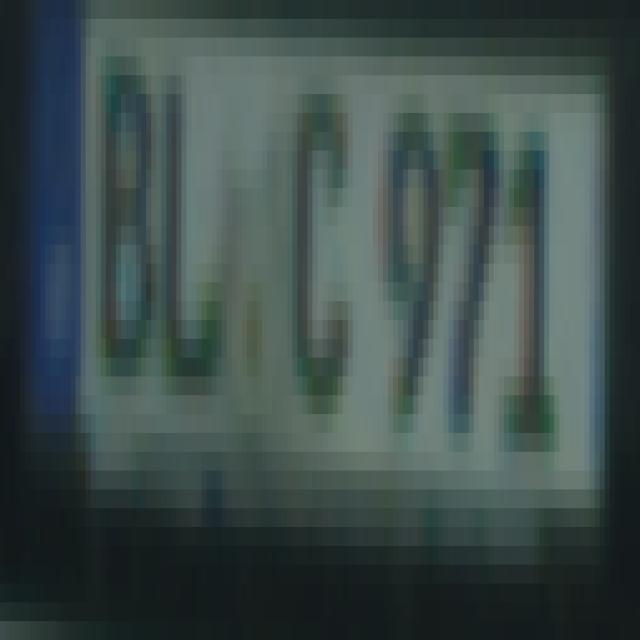Autre: (20, 0, 610, 527)
